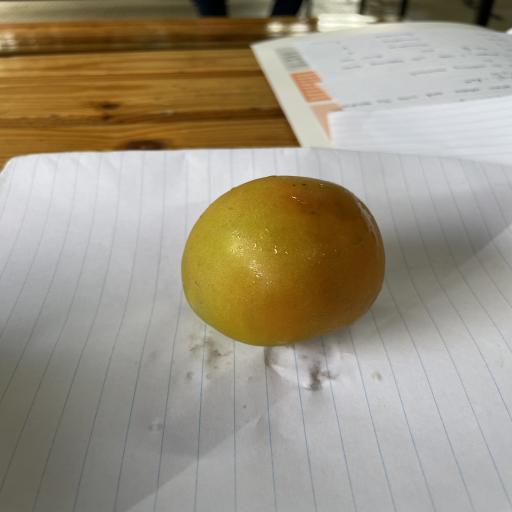unripe: (182, 176, 385, 346)
